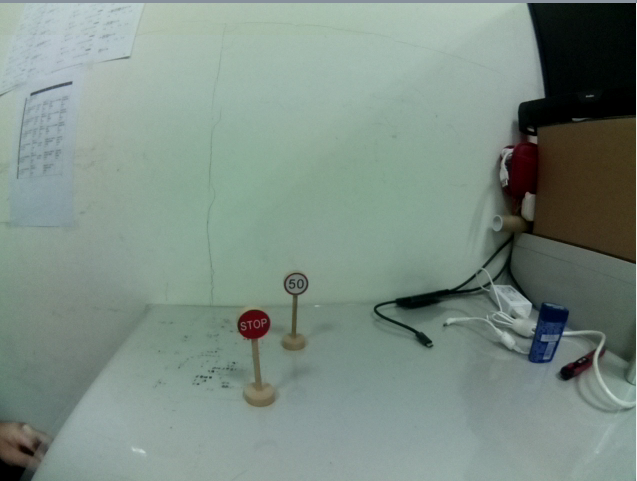Speed50: (282, 270, 312, 299)
Stop: (235, 306, 273, 344)
